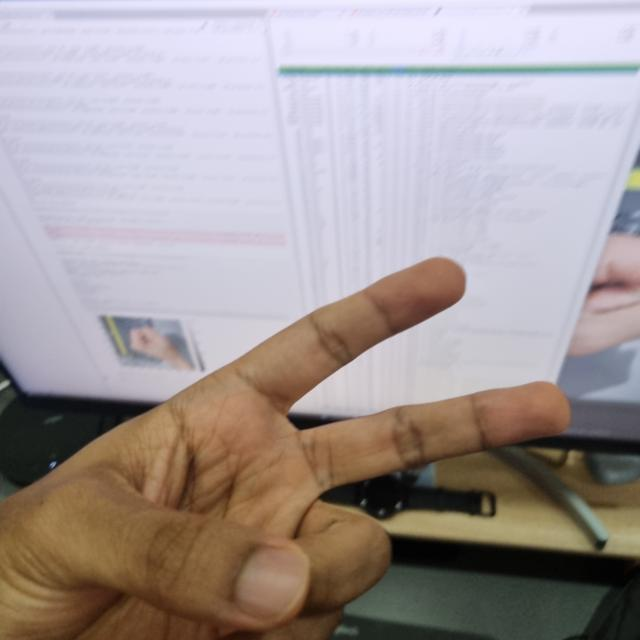Scissors: (2, 244, 593, 638)
